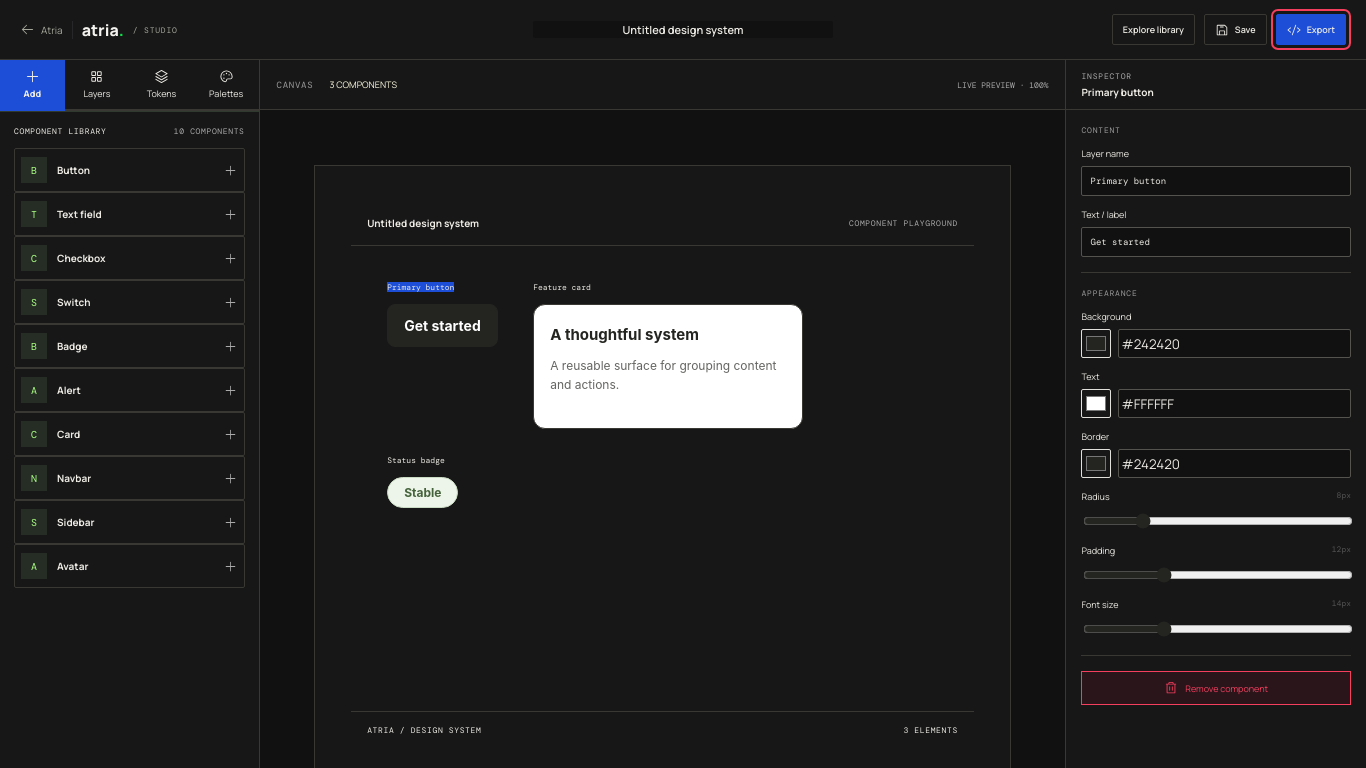
Test case: Studio panel controls › keeps keyboard focus inside export and restores it after Escape
The image size is (1366, 768).
Click the button "Export" at (1311, 30), box x1=1276 y1=14 x2=1346 y2=45
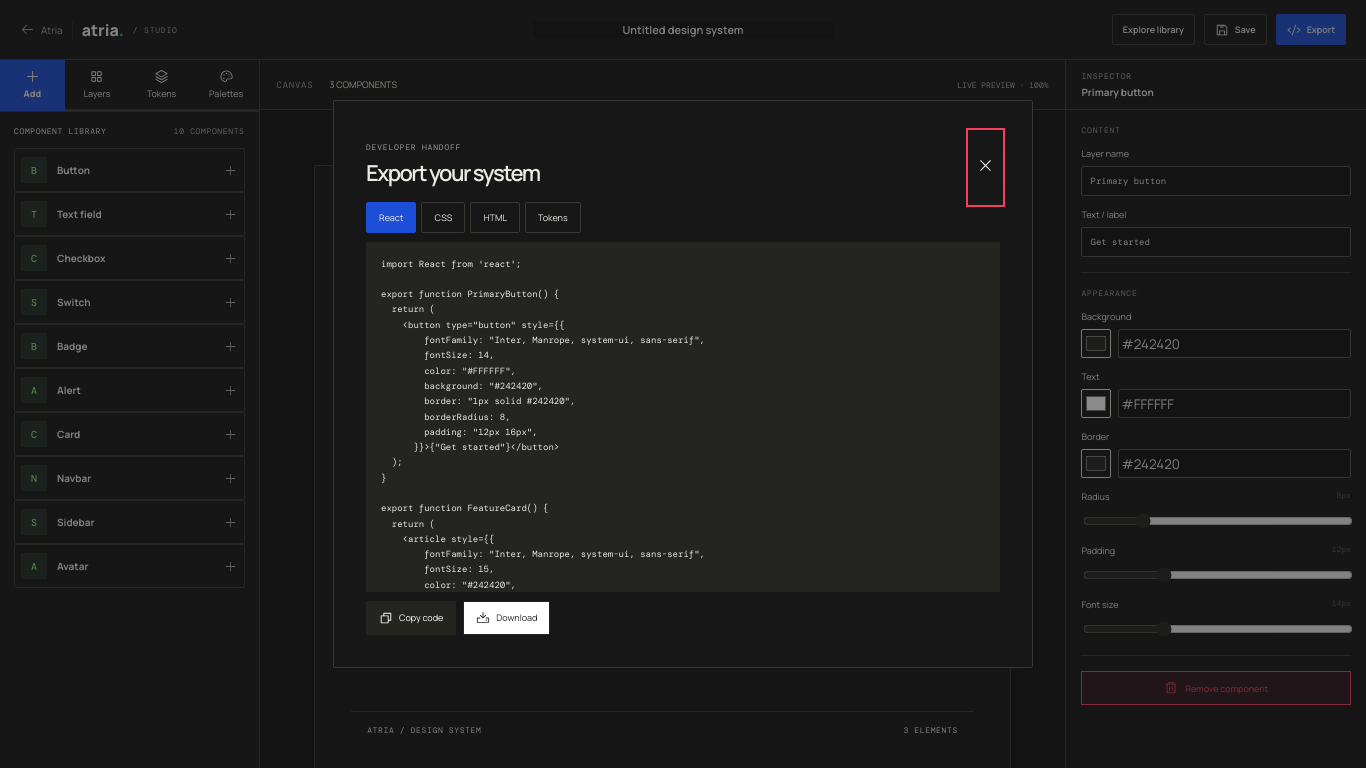
Press Tab in the button named "Close export", box x1=971 y1=134 x2=1000 y2=202
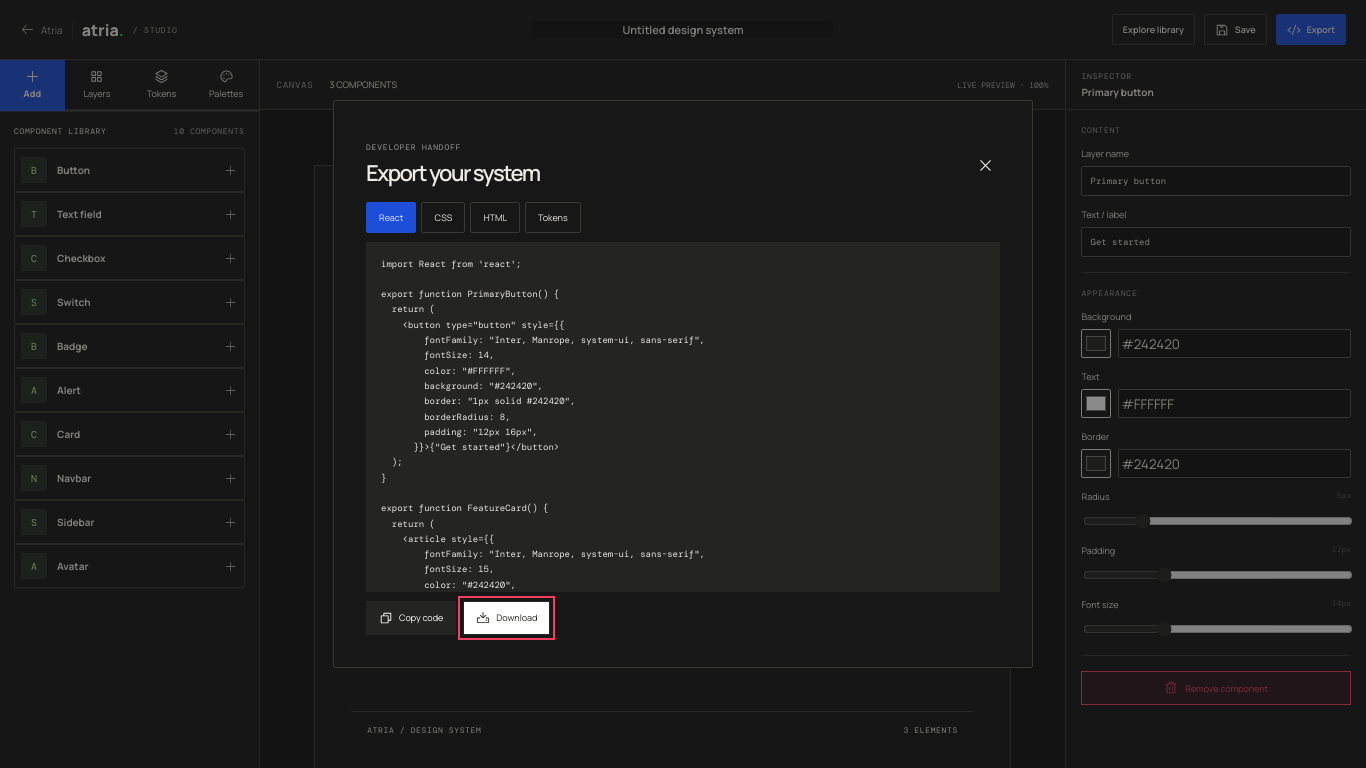
Press Tab in the button "Download", box x1=463 y1=600 x2=550 y2=634
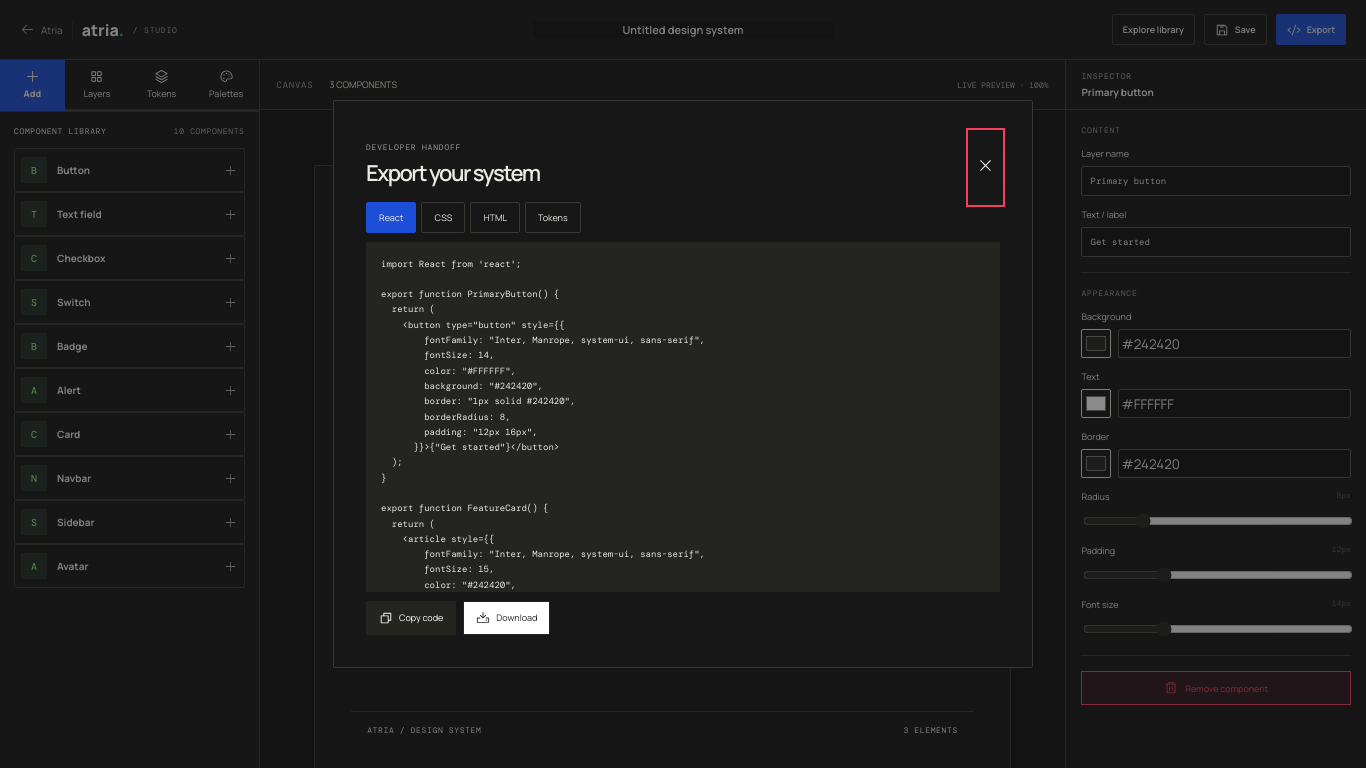
Press Escape in the button named "Close export", box x1=971 y1=134 x2=1000 y2=202
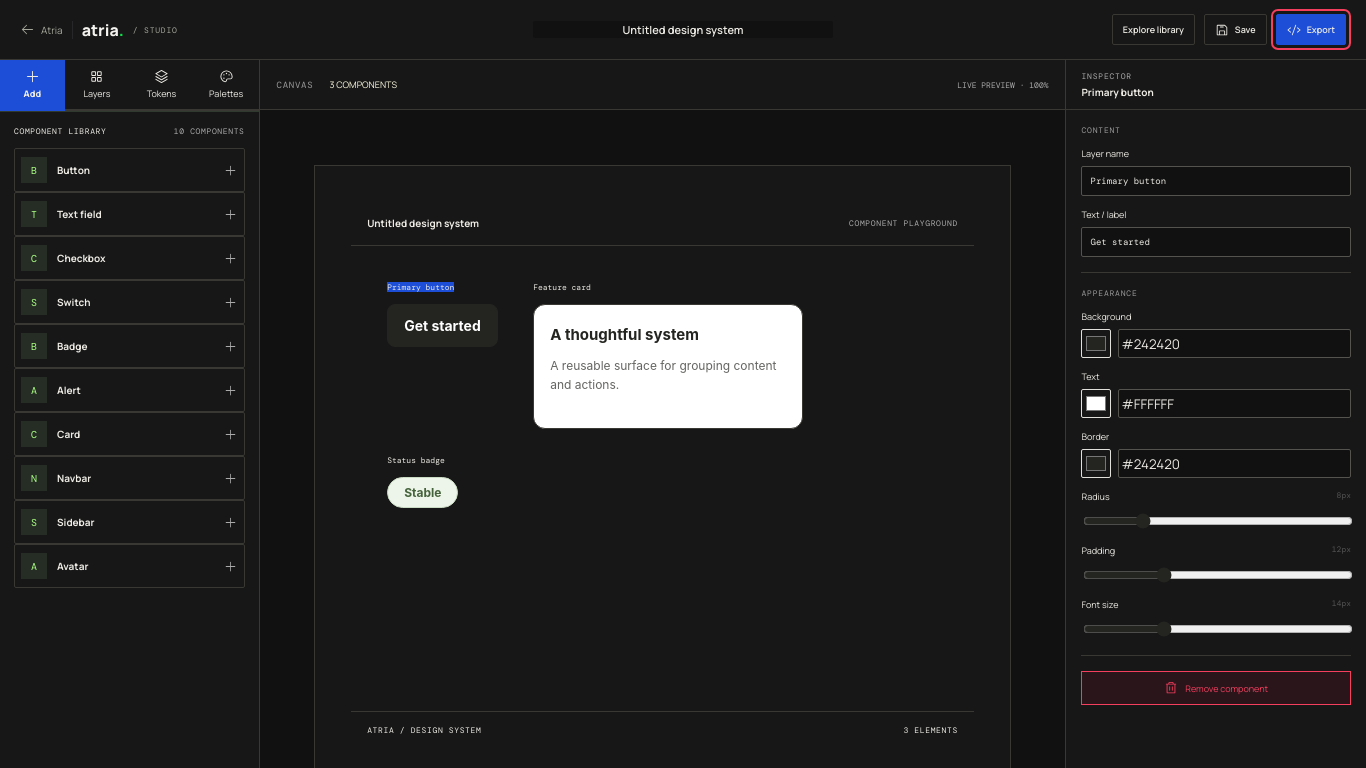
Result: the dialog is gone
